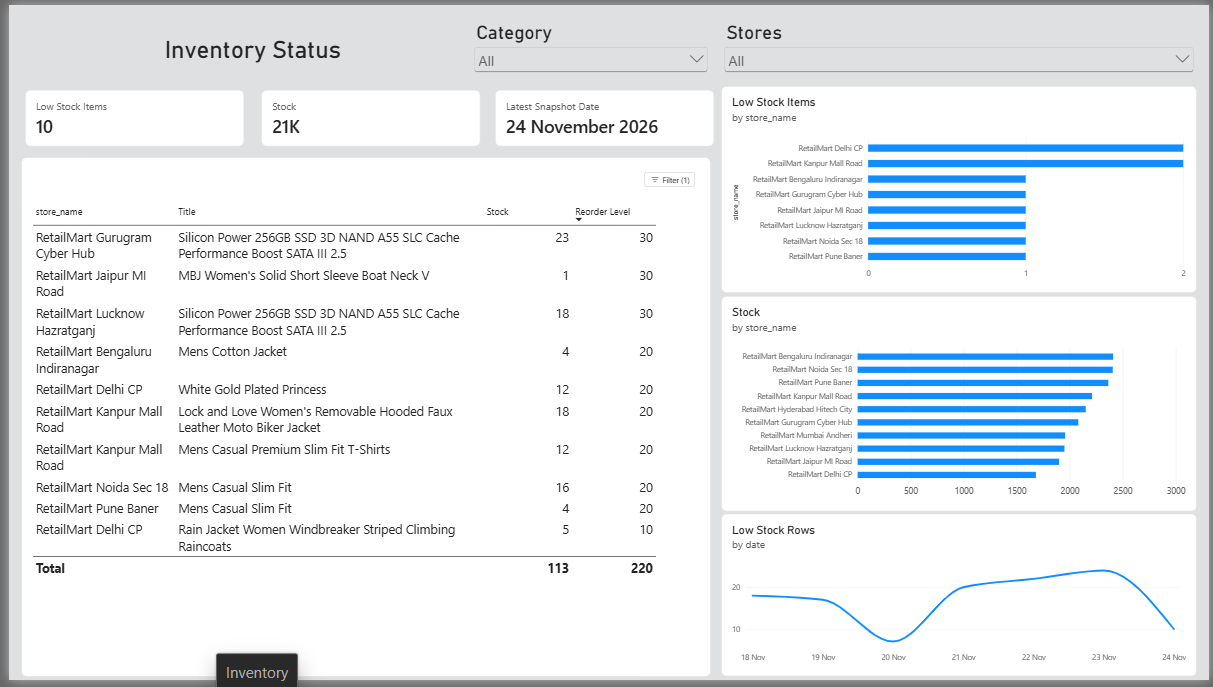

The page's visual inventory and layout, read from the dashboard file:
{"tool":"powerbi","page":{"name":"Inventory","canvas":[1920,1080],"ordinal":1},"visuals":[{"type":"cardVisual","fields":{"Data":["fact_inventory_snapshot.Low Stock Items"]},"box":[26.4,136.4,350,90],"z":0},{"type":"cardVisual","fields":{"Data":["fact_inventory_snapshot.Stock Qty Latest"]},"box":[403.9,136.4,350,90],"z":1000},{"type":"cardVisual","fields":{"Data":["fact_inventory_snapshot.Latest Snapshot Date"]},"box":[778.9,136.4,350,90],"z":2000},{"type":"clusteredBarChart","fields":{"Category":["dim_store.store_name"],"Y":["fact_inventory_snapshot.Low Stock Items"]},"box":[1140,130,760,330],"z":3000},{"type":"clusteredBarChart","fields":{"Category":["dim_store.store_name"],"Y":["fact_inventory_snapshot.Stock Qty Latest"]},"box":[1140,465,760,344],"z":4000},{"type":"lineChart","fields":{"Category":["dim_date.date"],"Y":["fact_inventory_snapshot.Low Stock Rows"]},"box":[1140,814,760,260],"z":5000},{"type":"tableEx","fields":{"Values":["dim_store.store_name","dim_product.title","fact_inventory_snapshot.Stock Qty Latest","fact_inventory_snapshot.Reorder Level Latest"]},"box":[20,244,1102,830],"z":6000},{"type":"slicer","fields":{"Values":["dim_product.category"]},"box":[740,25,382.5,100],"z":7000},{"type":"slicer","fields":{"Values":["dim_store.store_name"]},"box":[1140,25,760,100],"z":8000},{"type":"textbox","title":"Inventory Status","box":[40,47.5,700,122.5],"z":9000}]}

Visuals, with their boxes in screenshot pixels (x1, y1, x2, y2), scaled from the page's 1920x1080 canvas onto the 1213x687 screenshot:
cardVisual - fact_inventory_snapshot.Low Stock Items: rect(17, 87, 238, 144)
cardVisual - fact_inventory_snapshot.Stock Qty Latest: rect(255, 87, 476, 144)
cardVisual - fact_inventory_snapshot.Latest Snapshot Date: rect(492, 87, 713, 144)
clusteredBarChart - dim_store.store_name x fact_inventory_snapshot.Low Stock Items: rect(720, 83, 1200, 293)
clusteredBarChart - dim_store.store_name x fact_inventory_snapshot.Stock Qty Latest: rect(720, 296, 1200, 515)
lineChart - dim_date.date x fact_inventory_snapshot.Low Stock Rows: rect(720, 518, 1200, 683)
tableEx - dim_store.store_name x dim_product.title: rect(13, 155, 709, 683)
slicer - dim_product.category: rect(468, 16, 709, 80)
slicer - dim_store.store_name: rect(720, 16, 1200, 80)
"Inventory Status" textbox: rect(25, 30, 468, 108)
